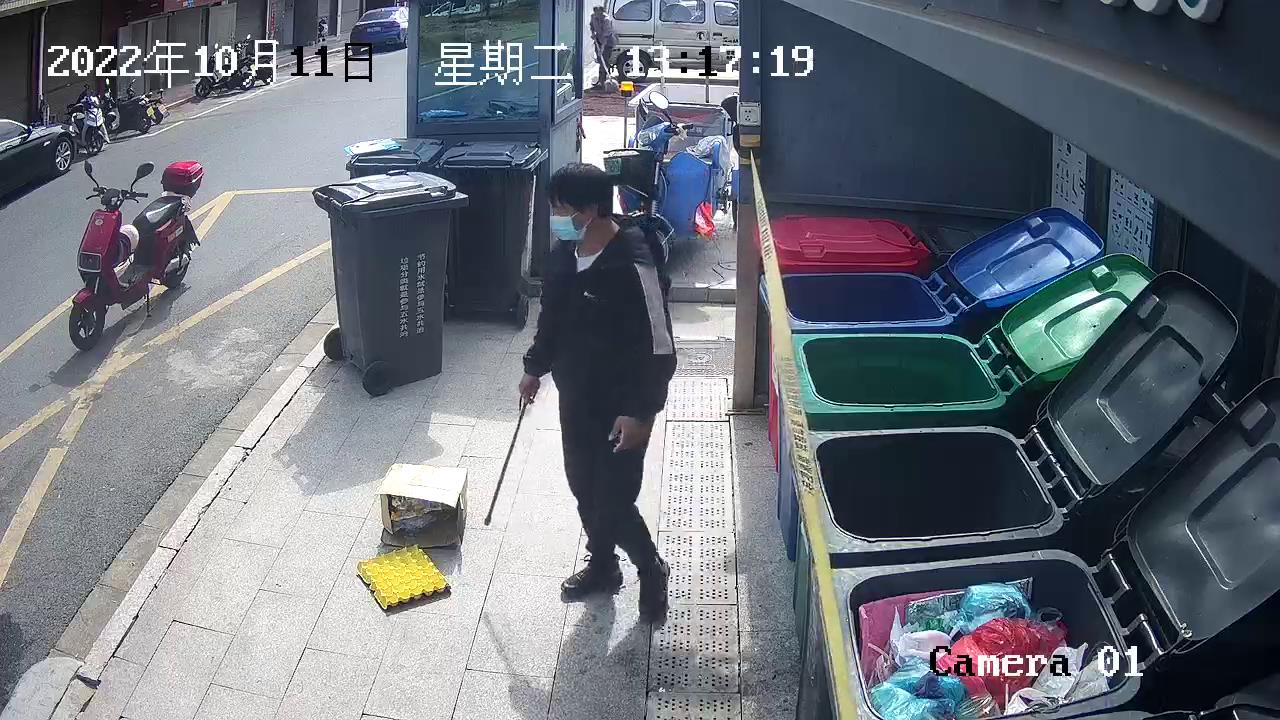person: (516, 160, 680, 627)
zhizhipin: (377, 460, 470, 550), (354, 541, 453, 613)
